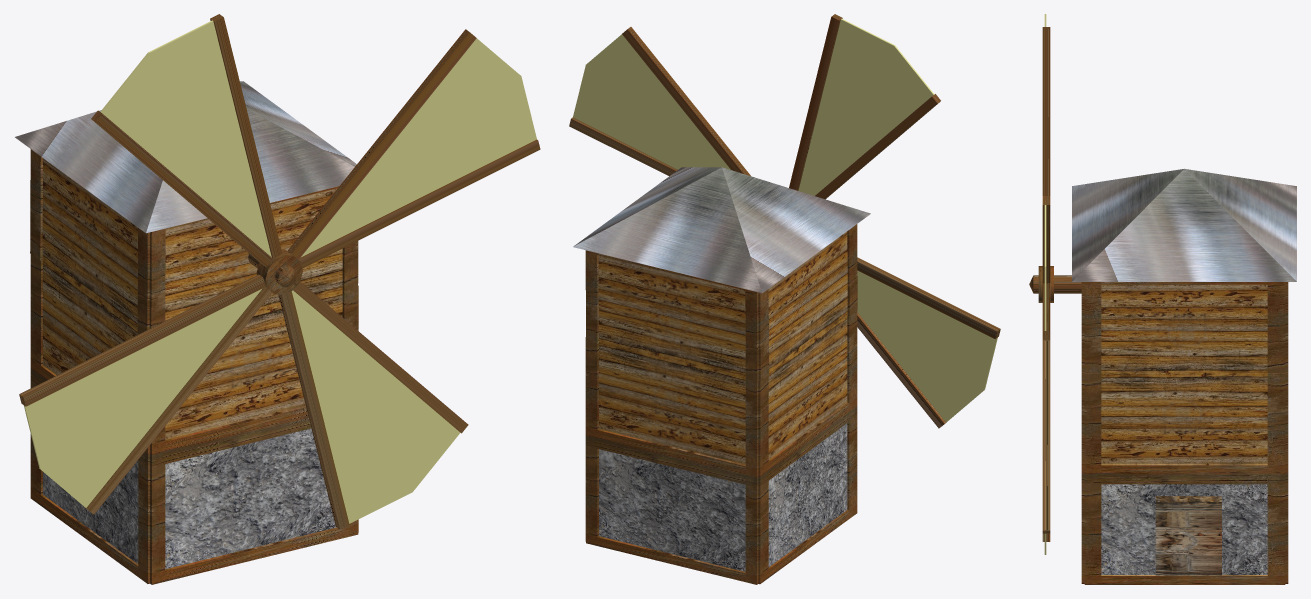
File: Moulin.FBX
3 renders of one model, left to right at view 1: azimuth 30°, elevation 25°; view 2: azimuth 150°, elevation 25°; view 3: azimuth 270°, elevation 25°, orthographic. The views are drawn at different scales.
Visible parts, largest first — view 1: Roue moulin, Haut moulin, Bas moulin, Pyramid001; view 2: Haut moulin, Roue moulin, Bas moulin, Pyramid001; view 3: Haut moulin, Pyramid001, Bas moulin, Roue moulin, Porte moulin.
Part boxes in pixels (bbox=[...]): Roue moulin: bbox=[19, 14, 540, 529]; Haut moulin: bbox=[30, 149, 358, 455]; Bas moulin: bbox=[30, 369, 358, 584]; Pyramid001: bbox=[15, 81, 356, 233]; Haut moulin: bbox=[585, 224, 857, 477]; Roue moulin: bbox=[569, 14, 1000, 428]; Bas moulin: bbox=[585, 406, 857, 584]; Pyramid001: bbox=[573, 167, 870, 293]; Haut moulin: bbox=[1081, 282, 1288, 474]; Pyramid001: bbox=[1072, 168, 1296, 281]; Bas moulin: bbox=[1081, 473, 1288, 584]; Roue moulin: bbox=[1029, 14, 1081, 554]; Porte moulin: bbox=[1155, 496, 1221, 575].
Size of the model in its own units: 603 by 638 by 316.
